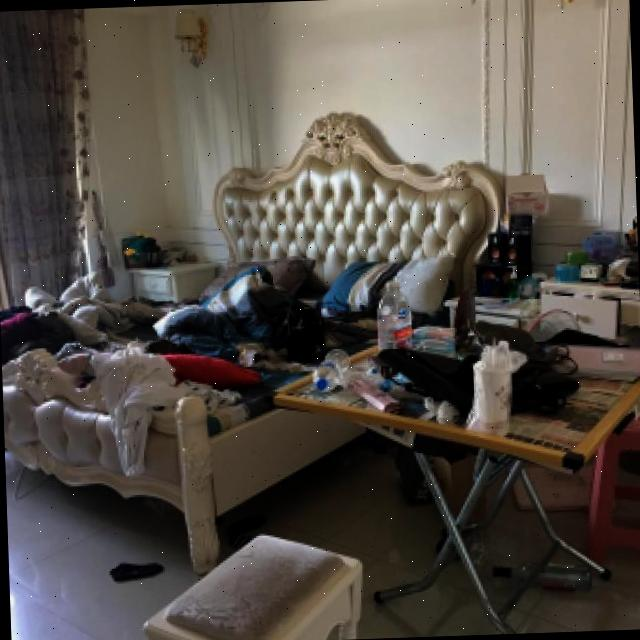mess: (8, 274, 210, 374), (88, 321, 241, 422), (238, 269, 380, 373), (448, 320, 584, 426), (364, 344, 532, 428), (206, 256, 302, 345), (492, 557, 614, 604), (108, 560, 177, 586)
messy_bed: (0, 114, 493, 565)
messy_table: (275, 322, 640, 631)
